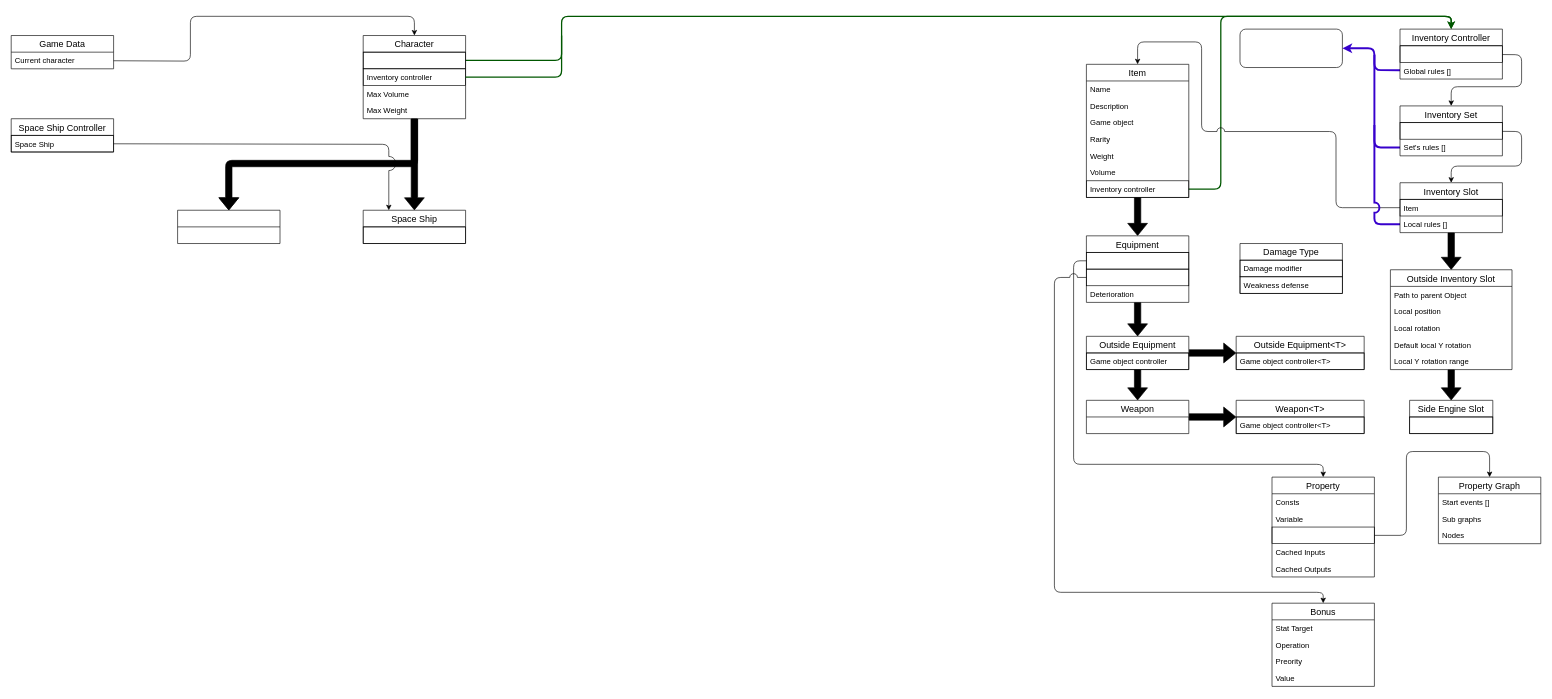
Image size: 1552x699. Some labels were removed from this diagram. Here are the shapes that lost their labels. From the top down, the centre of each, then its label:
At [414,60]: "Equipment controller".
At [1290,48]: "Some check function".
At [1450,53]: "Inventory Sets []".
At [1450,130]: "Inventory Slots []".
At [228,227]: "Humanoid".
At [1137,260]: "Properties []".
At [1137,277]: "Bonuses []".
At [1451,425]: "Enum Side".
At [1322,535]: "PropertyGraph".
